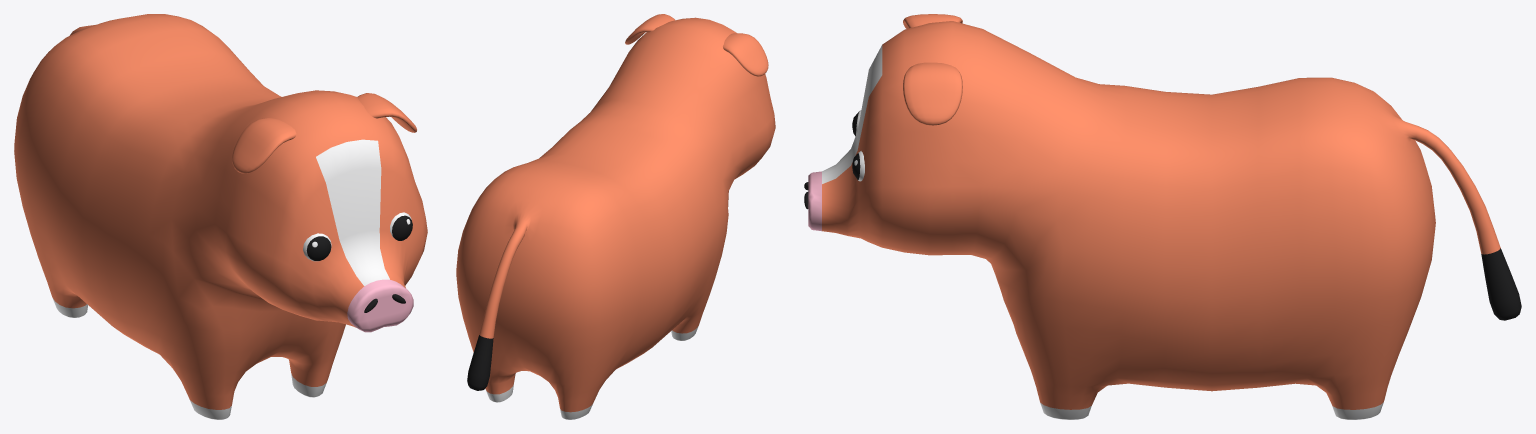
File: Farm_6_Pig_3.glb
3 views of the same model, side by side, from view 1: azimuth 30°, elevation 25°; view 2: azimuth 150°, elevation 25°; view 3: azimuth 270°, elevation 25° (orthographic). The views are drawn at different scales.
Parts seen in each view (by area): view 1: Farm_6_Pig_3; view 2: Farm_6_Pig_3; view 3: Farm_6_Pig_3.
Part boxes in pixels (box(x1,y1,x2,y2)): Farm_6_Pig_3: box(14, 14, 427, 419); Farm_6_Pig_3: box(456, 14, 775, 419); Farm_6_Pig_3: box(804, 14, 1521, 419).
Bounding box in the file's own units: 0.6424 × 0.9811 × 1.78.
1 material, 1 textured.
